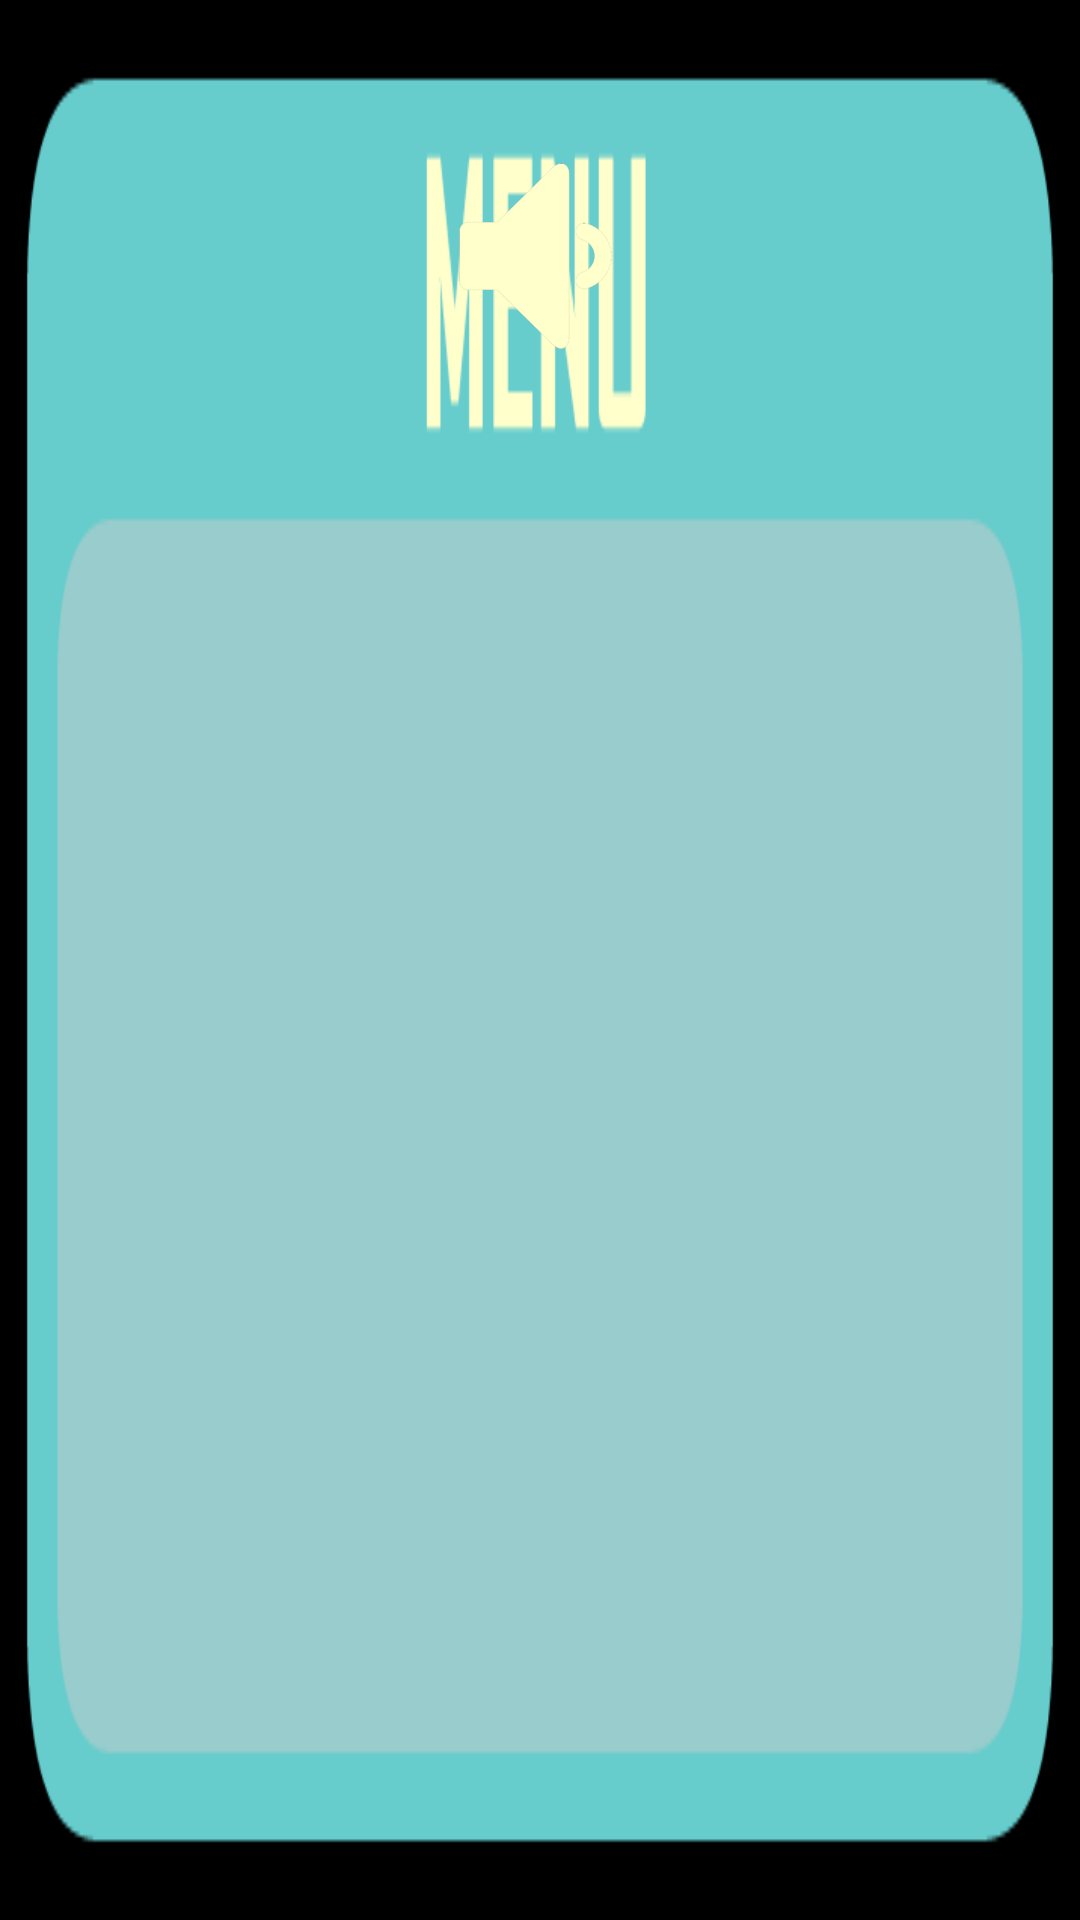

Screen size 1080×1920. Icon name, then its center in pixels as (x=x, y=y):
sound on: (x=540, y=255)
